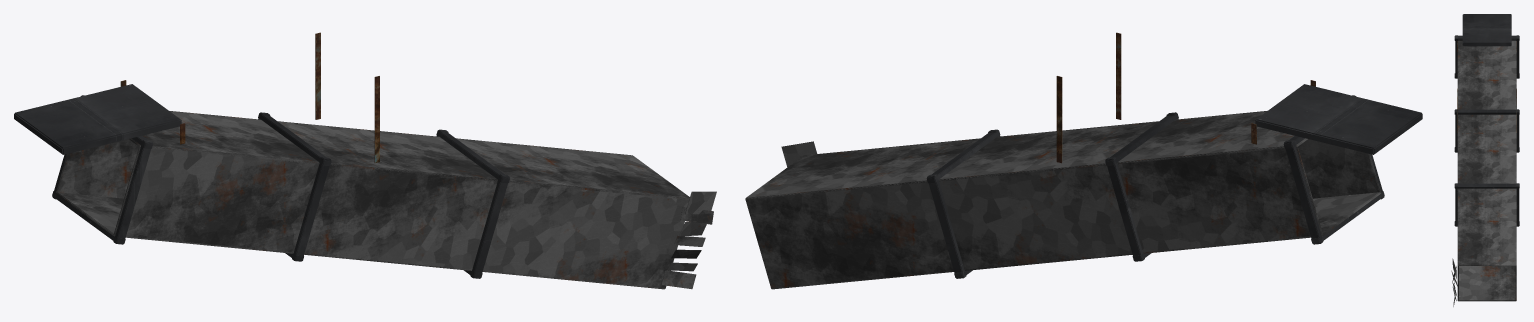
File: fallen_duct.gltf
The picture shows the model from 3 angles, left to right: view 1: azimuth 30°, elevation 25°; view 2: azimuth 150°, elevation 25°; view 3: azimuth 270°, elevation 25°; orthographic projection. The views are drawn at different scales.
Parts seen in each view (by area): view 1: Body; view 2: Body; view 3: Body.
Boxes of the visible parts, <box> form: Body: <box>14,32,716,289</box>; Body: <box>745,32,1422,289</box>; Body: <box>1451,14,1519,306</box>.
Bounding box in the file's own units: 3.8 × 1.6 × 0.6945.
Materials: 3 (3 with a texture image).
